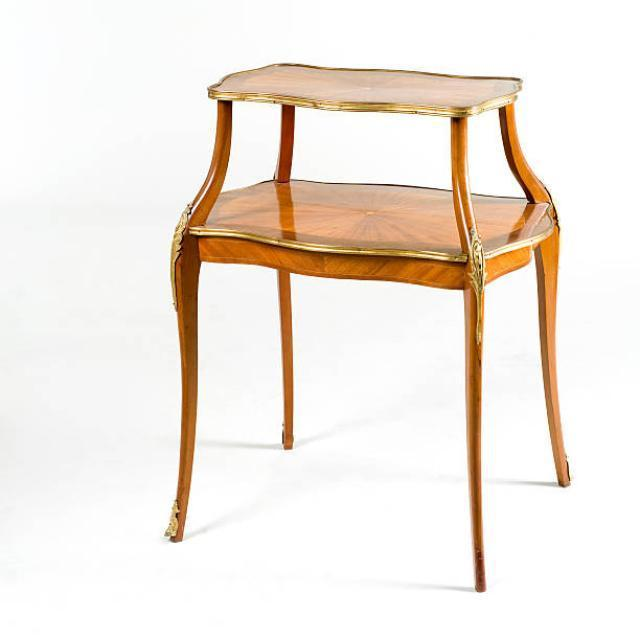table: (163, 61, 572, 592)
